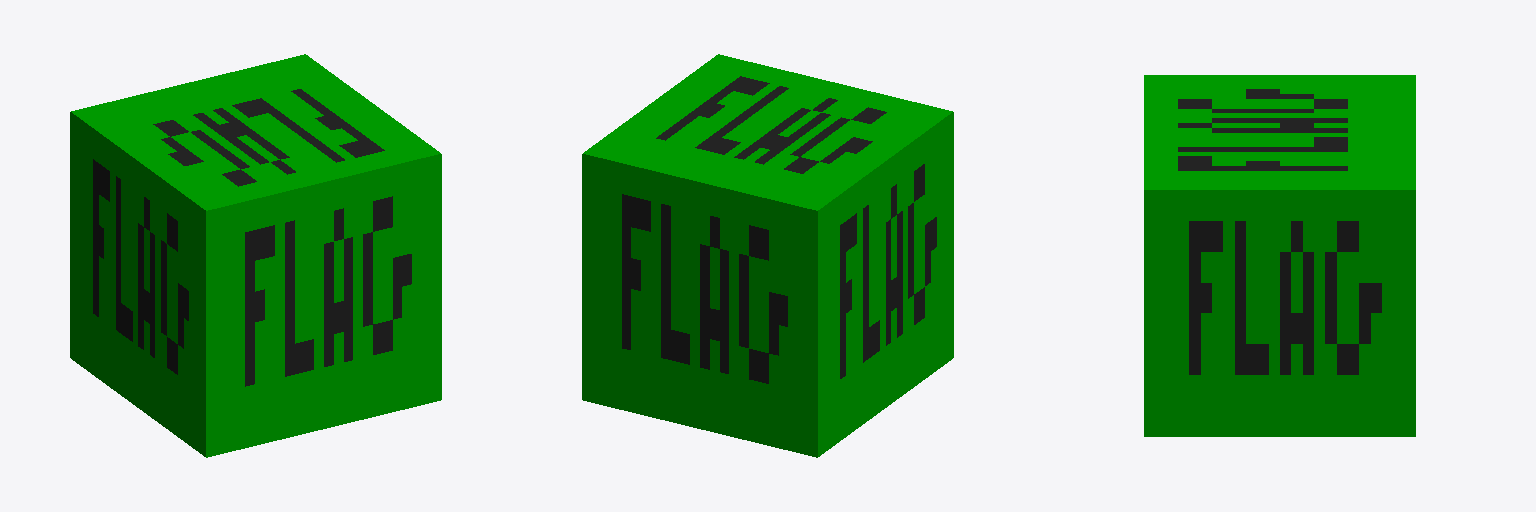
3 renders of one model, left to right at view 1: azimuth 30°, elevation 25°; view 2: azimuth 150°, elevation 25°; view 3: azimuth 270°, elevation 25°, orthographic.
Parts seen in each view (by area): view 1: T1L8M008_11; view 2: T1L8M008_11; view 3: T1L8M008_11.
Boxes of the visible parts, <box> form: T1L8M008_11: <box>70,54,441,457</box>; T1L8M008_11: <box>582,54,953,457</box>; T1L8M008_11: <box>1144,75,1415,436</box>.
Size of the model in its own units: 0.3994 by 0.4004 by 0.3994.
Materials: 1 (1 with a texture image).